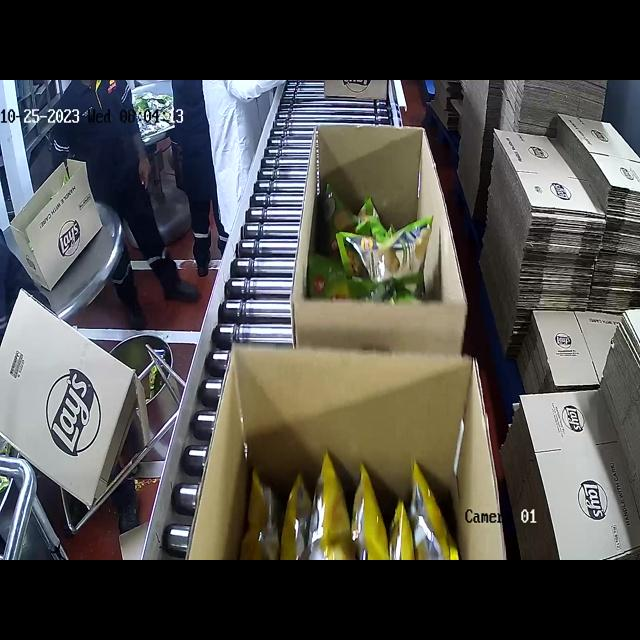salted: (252, 441, 450, 560)
yogurt: (332, 184, 441, 303)
